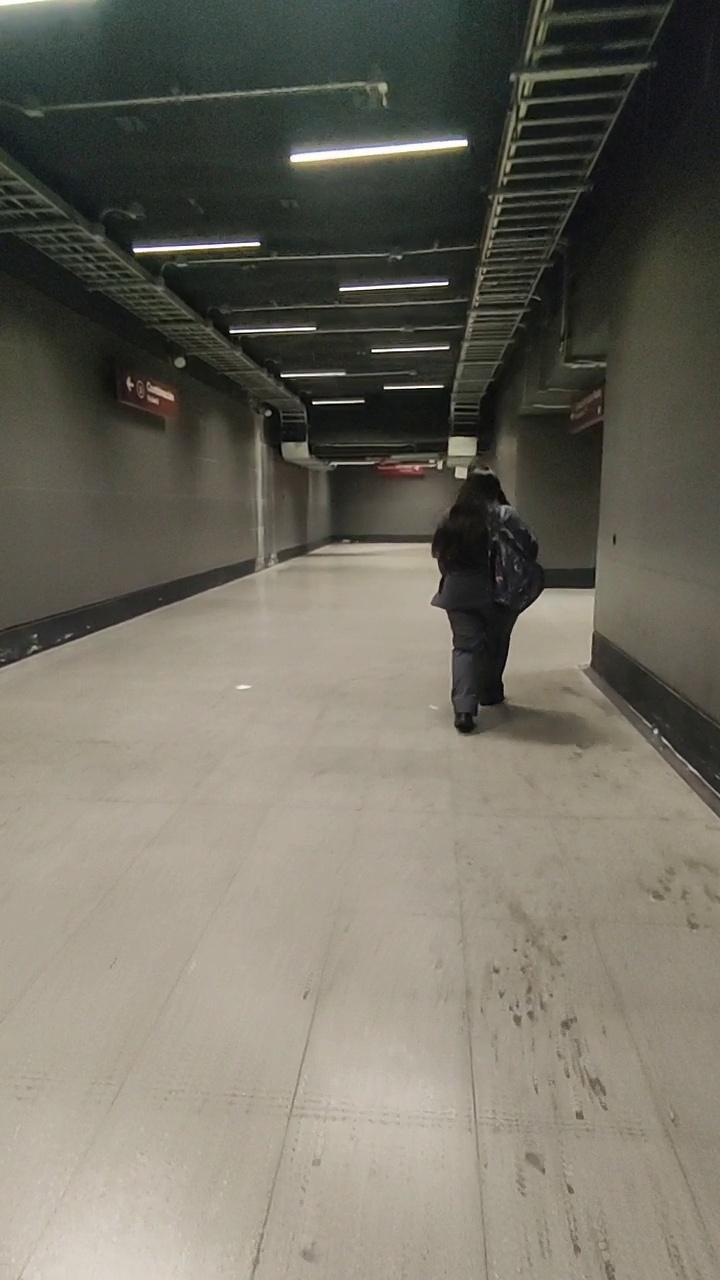left arrow: (124, 376, 136, 393)
